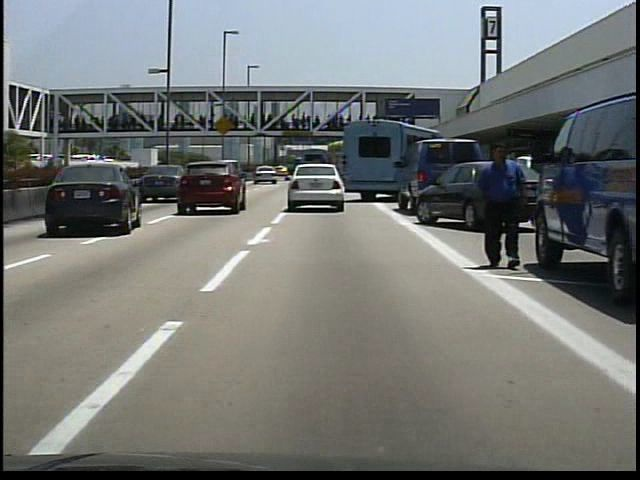person: (469, 141, 533, 272)
